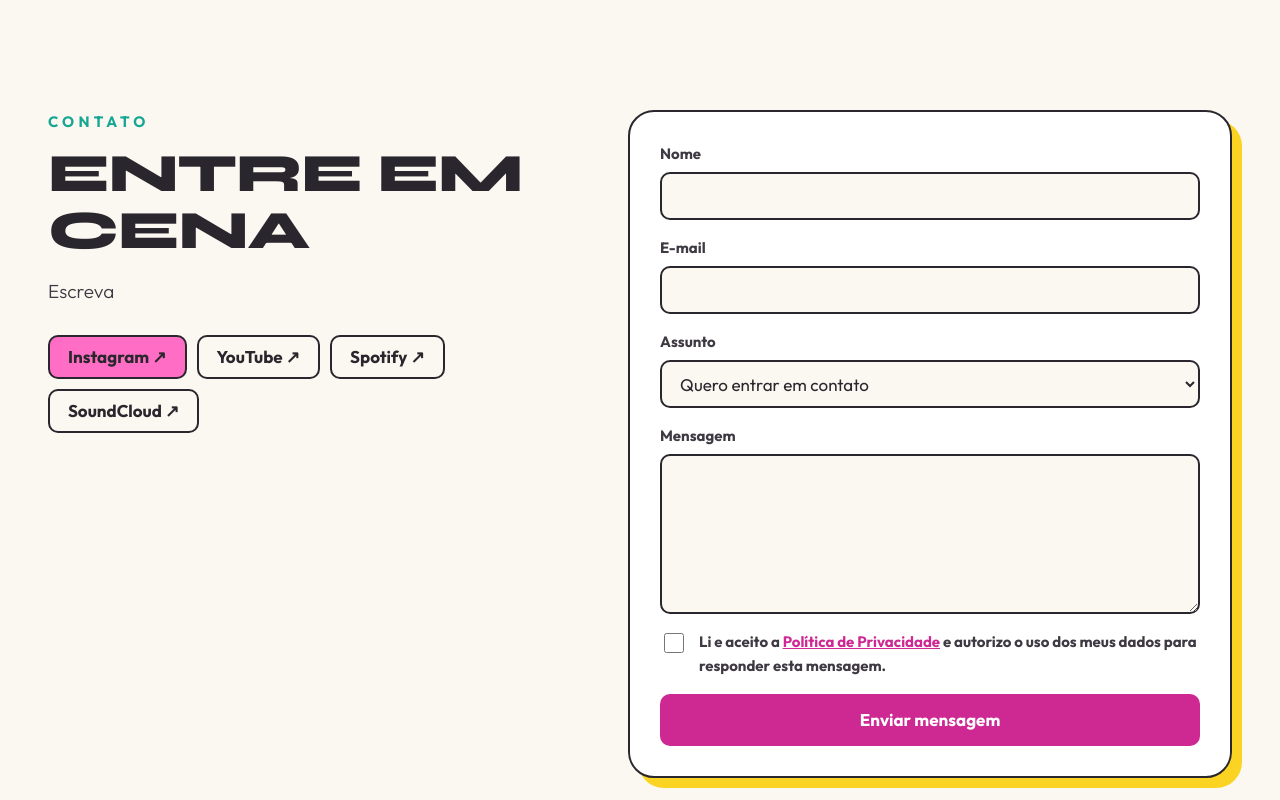
it: Contact › mostra erros de validação e não envia
The image size is (1280, 800).
Click the button "Enviar mensagem". click: [930, 720]
box: [660,694,1200,746]
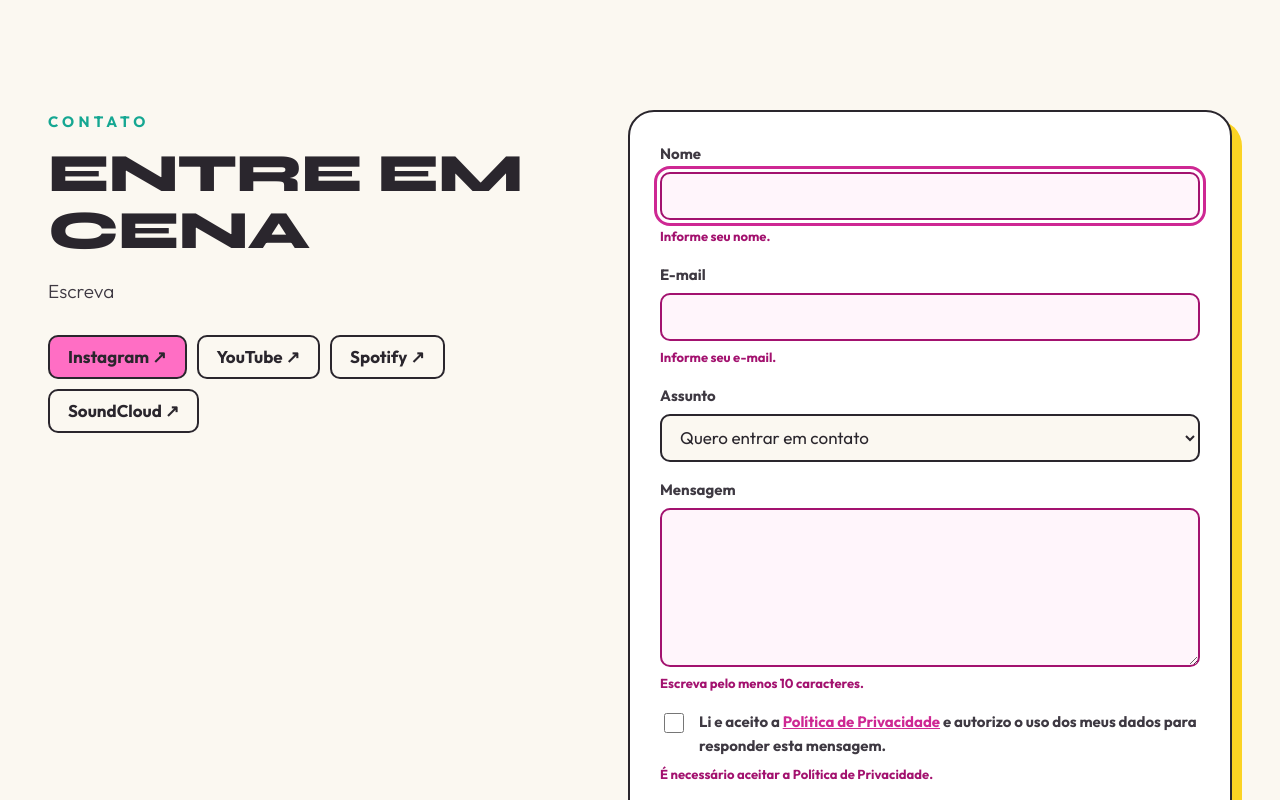
Check: the text "Informe seu nome." is shown, box [660,228,770,244]
Check: the text "É necessário aceitar a Política de Privacidade." is shown, box [660,766,933,782]
